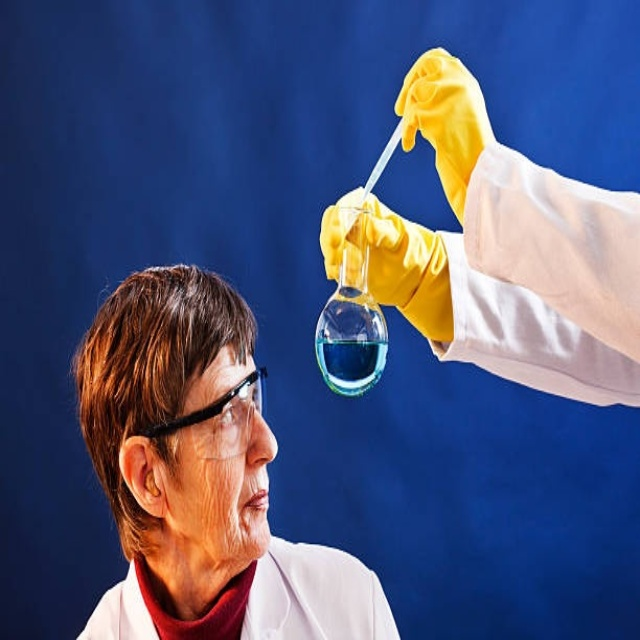Gafas: (136, 369, 267, 443)
Guantes: (320, 186, 454, 343), (394, 48, 495, 225)
Sin_mascara: (226, 463, 275, 547)
